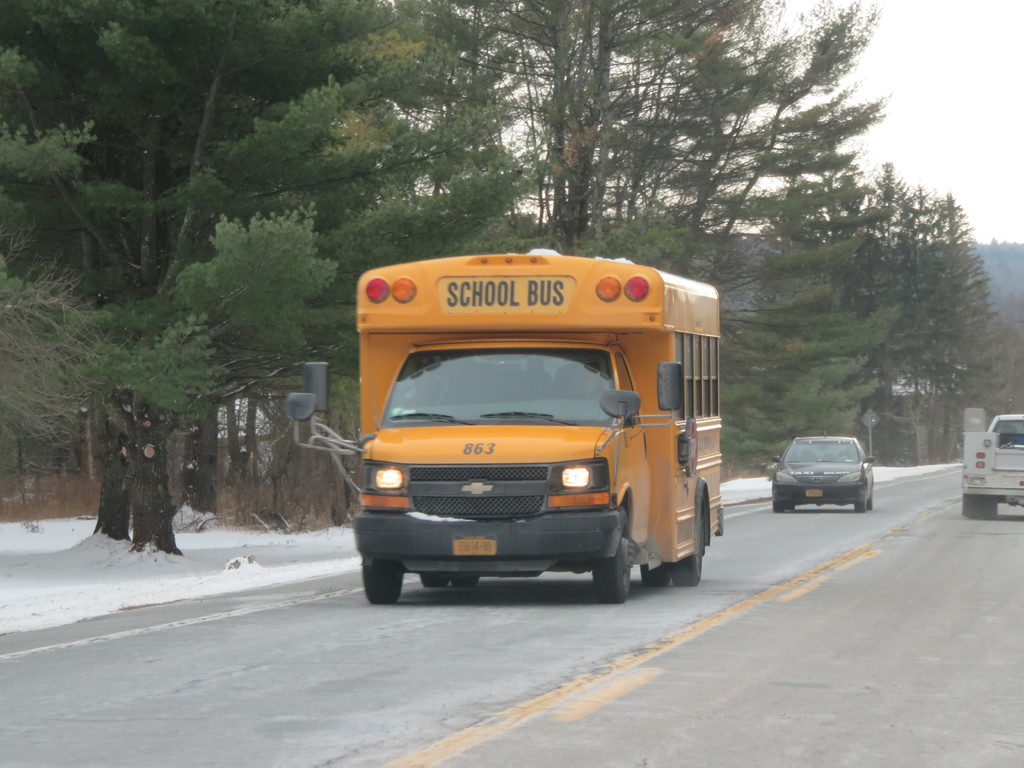Bus: (284, 248, 724, 603)
